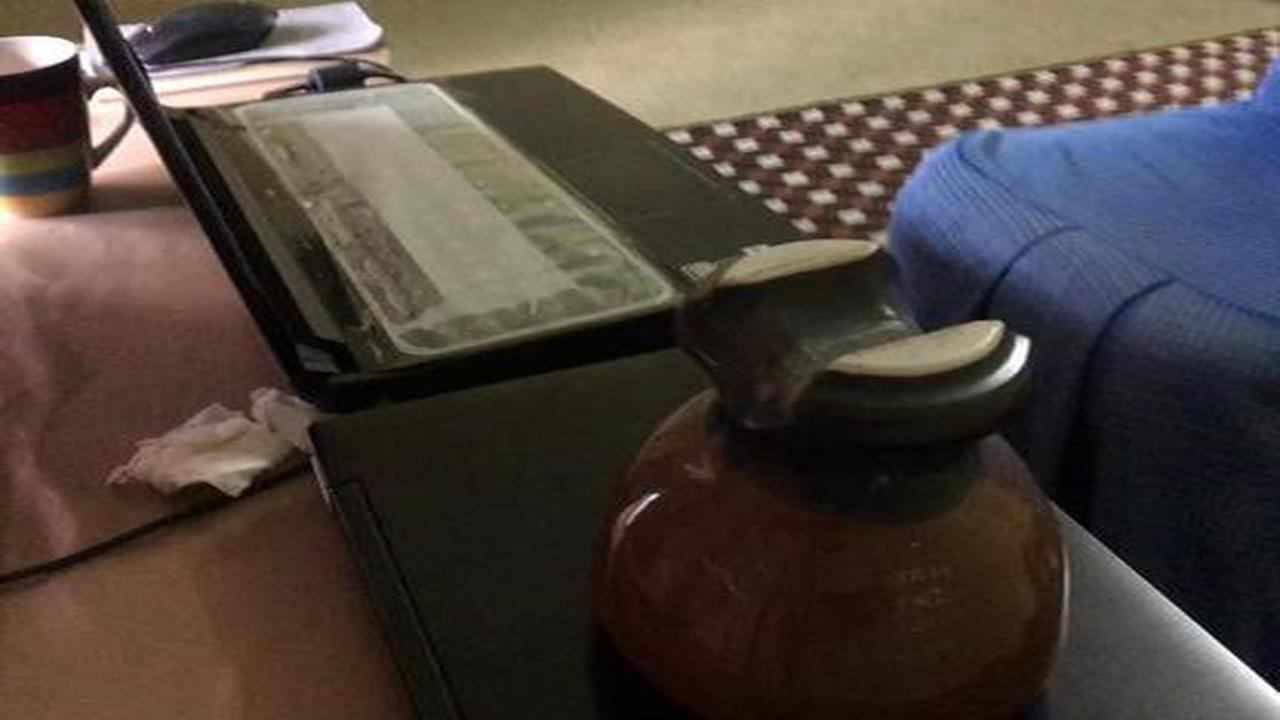insulator_pin: (582, 219, 1074, 715)
